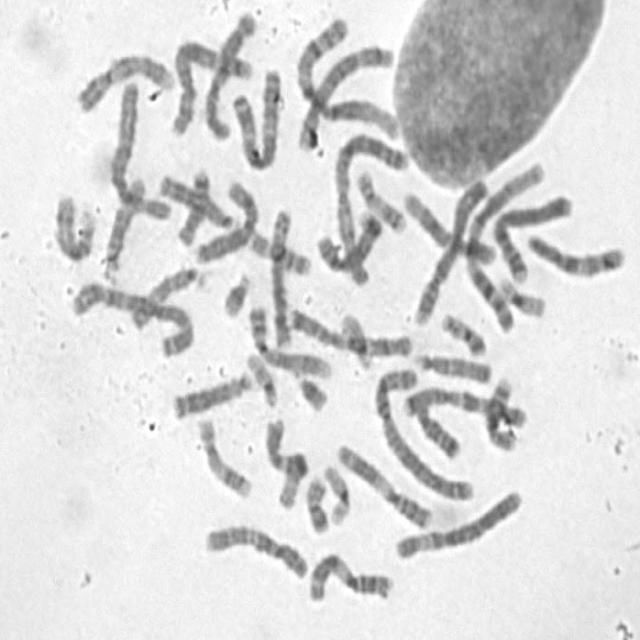A1: (458, 156, 548, 334), (293, 11, 402, 147)
A2: (370, 360, 478, 502), (328, 127, 410, 284)
A3: (66, 275, 195, 360), (228, 61, 284, 172)
B4: (407, 172, 489, 328), (490, 189, 575, 286)
B5: (294, 42, 394, 153), (164, 29, 252, 138)
C10: (200, 518, 312, 583), (522, 227, 628, 279)
C11: (333, 437, 435, 530), (305, 546, 396, 603)
C12: (399, 183, 498, 267), (261, 413, 309, 511)
C6: (392, 483, 526, 562), (105, 78, 174, 222)
C7: (284, 301, 416, 358), (396, 380, 529, 430)
C8: (164, 29, 252, 138), (267, 202, 295, 349)
C9: (72, 46, 178, 115), (244, 298, 334, 379)
D13: (155, 168, 240, 232), (168, 367, 258, 420)
D14: (99, 170, 148, 278), (50, 189, 97, 262)
D15: (125, 262, 203, 332), (411, 347, 494, 386)
E16: (244, 224, 313, 276), (481, 372, 522, 452)
E17: (193, 412, 254, 500), (352, 163, 408, 235)
E18: (173, 160, 213, 248), (411, 398, 463, 460)
F19: (494, 270, 548, 320), (320, 458, 353, 528)
F20: (436, 306, 489, 358), (302, 470, 331, 536)
G21: (218, 266, 253, 319), (292, 368, 331, 413)
G22: (337, 306, 375, 371), (242, 346, 280, 408)
X: (199, 5, 259, 142), (192, 174, 260, 264)
